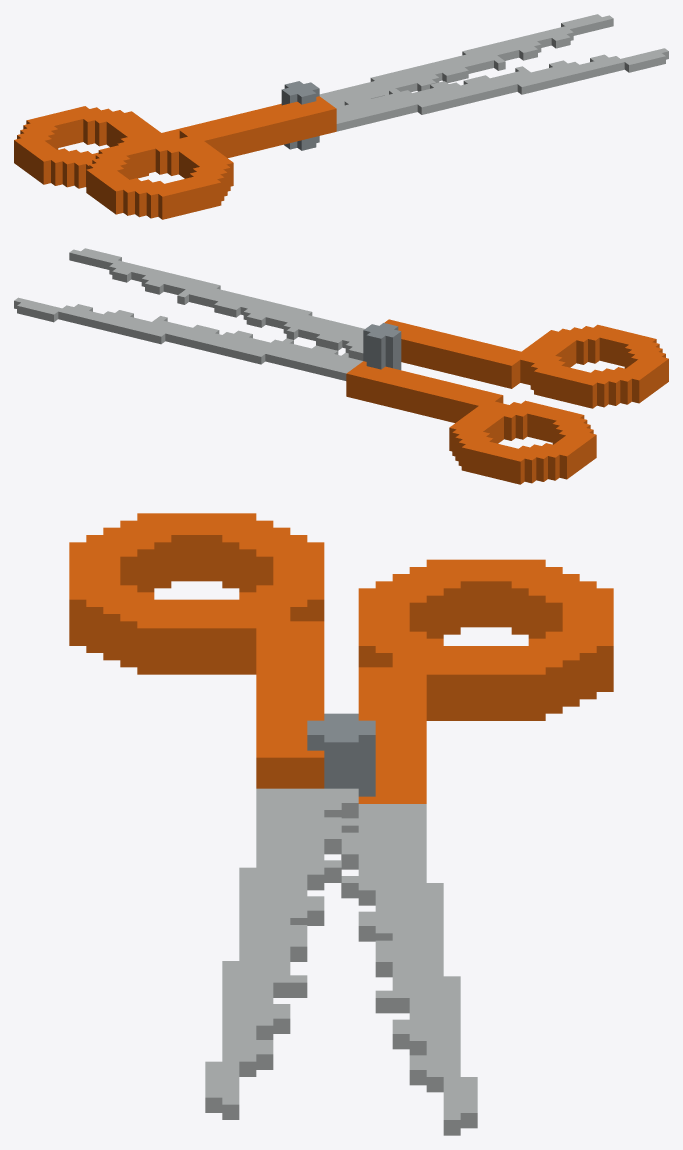
Rendered from scissors_wavy.glb.
3 views of the same model, one above another, from view 1: azimuth 30°, elevation 25°; view 2: azimuth 150°, elevation 25°; view 3: azimuth 270°, elevation 25° (orthographic). The views are drawn at different scales.
Visible parts, largest first — view 1: scissors_wavy:compound; view 2: scissors_wavy:compound; view 3: scissors_wavy:compound.
Boxes of the visible parts, x1,y1,x2,y2 form: scissors_wavy:compound: [14, 14, 668, 219]; scissors_wavy:compound: [14, 248, 668, 484]; scissors_wavy:compound: [69, 513, 613, 1135].
Size of the model in its own units: 0.156 by 0.014 by 0.064.
